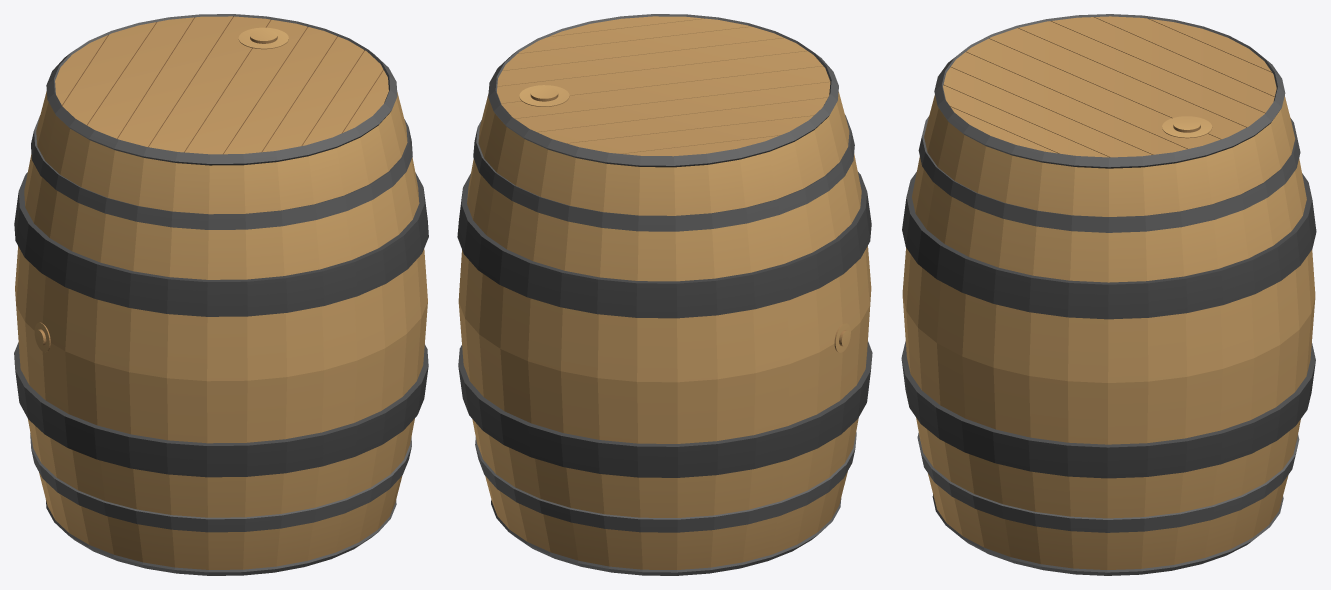
File: Small Light Barrel Closed #2.fbx
3 renders of one model, left to right at view 1: azimuth 30°, elevation 25°; view 2: azimuth 150°, elevation 25°; view 3: azimuth 270°, elevation 25°, orthographic.
Visible parts, largest first — view 1: Small Light Barrel Closed #2; view 2: Small Light Barrel Closed #2; view 3: Small Light Barrel Closed #2.
Part boxes in pixels (bbox=[...]): Small Light Barrel Closed #2: bbox=[14, 14, 428, 575]; Small Light Barrel Closed #2: bbox=[457, 14, 872, 575]; Small Light Barrel Closed #2: bbox=[901, 14, 1316, 575].
Size of the model in its own units: 272 by 243 by 244.
1 material, 1 textured.
